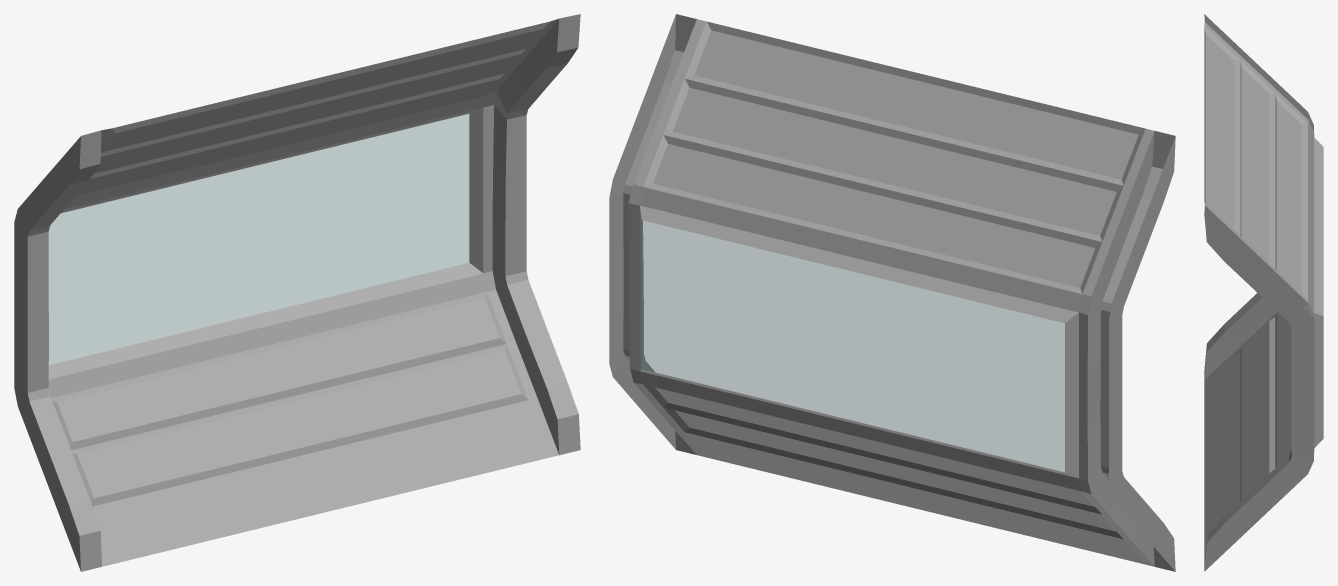
File: Wall_D_Window.fbx
The picture shows the model from 3 angles, left to right: view 1: azimuth 30°, elevation 25°; view 2: azimuth 150°, elevation 25°; view 3: azimuth 270°, elevation 25°; orthographic projection. The views are drawn at different scales.
Visible parts, largest first — view 1: Wall_D_Window; view 2: Wall_D_Window; view 3: Wall_D_Window.
Boxes of the visible parts, left/top/right/bottom form: Wall_D_Window: left=14, top=14, right=580, bottom=571; Wall_D_Window: left=609, top=14, right=1175, bottom=571; Wall_D_Window: left=1204, top=14, right=1323, bottom=571.
Bounding box in the file's own units: 3 × 0.7558 × 2.5.
